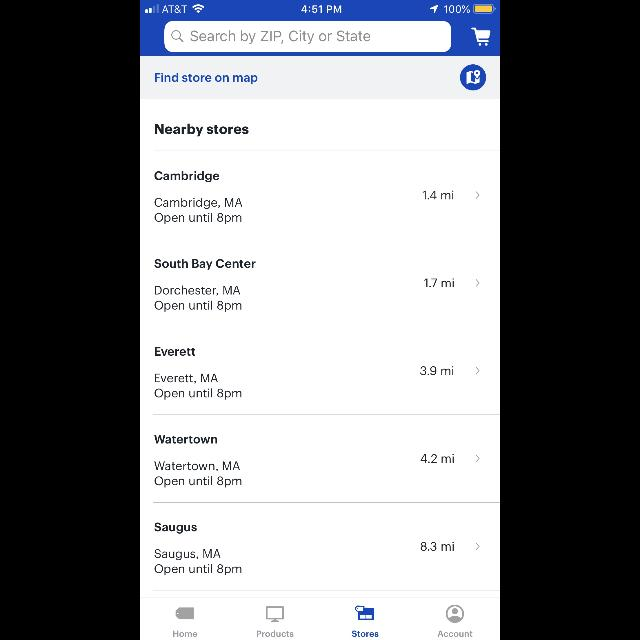icon: (460, 65, 486, 91), (472, 28, 491, 46), (446, 605, 464, 623), (176, 607, 194, 619), (172, 31, 184, 43), (476, 542, 480, 550), (476, 454, 480, 462), (476, 368, 480, 374), (476, 280, 480, 286), (476, 192, 480, 198)
image: (266, 606, 284, 622), (356, 606, 374, 620)
input: (165, 22, 451, 52)
text: (191, 31, 371, 44), (155, 198, 243, 224), (154, 286, 242, 312), (154, 374, 242, 400), (154, 461, 242, 487), (154, 549, 242, 575), (154, 258, 256, 270), (154, 74, 258, 85), (155, 124, 249, 136), (154, 172, 220, 182), (154, 434, 218, 444), (155, 522, 197, 534), (154, 346, 196, 356), (421, 366, 454, 376), (421, 542, 454, 552), (422, 190, 453, 200), (256, 630, 294, 638), (424, 278, 454, 288), (421, 453, 454, 462), (438, 630, 472, 638), (352, 630, 378, 636), (173, 631, 197, 637)
uppertaskbar: (140, 0, 500, 14)
